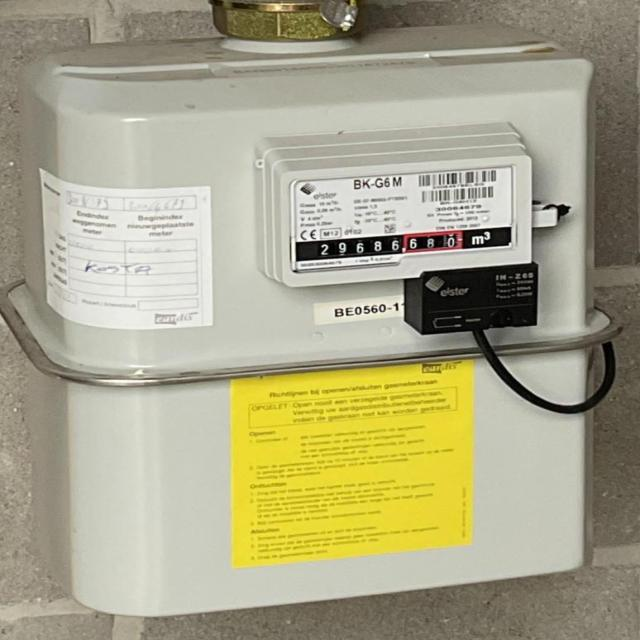gaz_meter: (293, 172, 525, 262)
indication: (303, 230, 463, 260)
